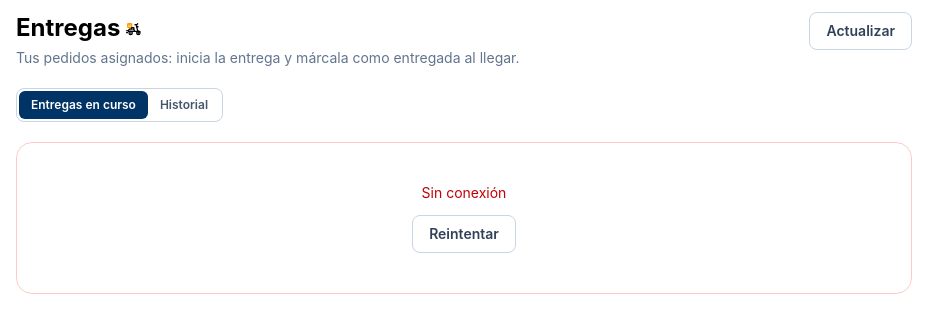
Test case: Entregas del repartidor › muestra un listado vacío y permite reintentar tras un error
Expected: the text "Sin conexión" is shown, top-left (422, 184), bottom-right (506, 201)
Click the button "Reintentar": (464, 234) top-left (412, 215), bottom-right (516, 253)
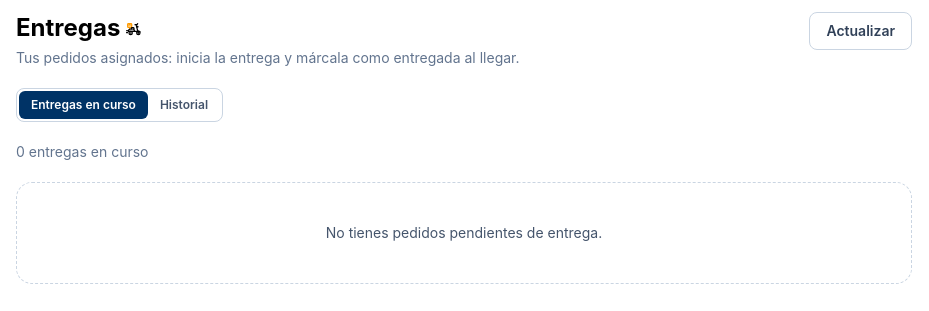
Result: the text "No tienes pedidos pendientes de entrega." is shown at top-left (16, 182), bottom-right (912, 284)
